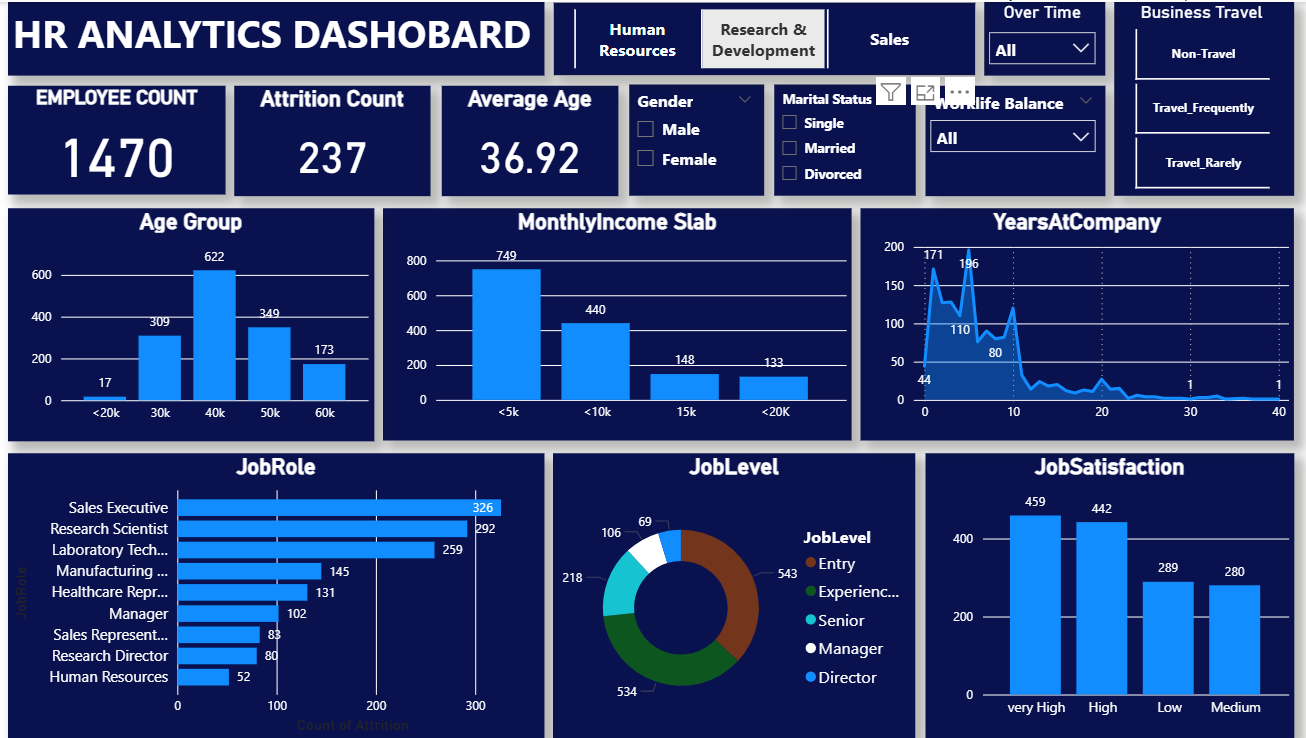

The page's visual inventory and layout, read from the dashboard file:
{"tool":"powerbi","page":{"name":"Page 1","canvas":[1280,720],"ordinal":0},"visuals":[{"type":"textbox","box":[9.8,0,524.6,72.1],"z":0},{"type":"card","title":"EMPLOYEE COUNT","fields":{"Values":["CountNonNull(cleaned_data.EmployeeNumber)"]},"box":[9.8,81.9,212.8,106.4],"z":1000},{"type":"slicer","fields":{"Values":["cleaned_data.Department"]},"box":[542.9,0,413.3,72.1],"z":2000},{"type":"card","title":"Attrition Count","fields":{"Values":["cleaned_data.attrition_countyes"]},"box":[231.1,81.9,192,107.6],"z":3000},{"type":"columnChart","title":"MonthlyIncome Slab","fields":{"Category":["cleaned_data.monthlyincomesalb"],"Y":["CountNonNull(cleaned_data.Attrition)"]},"box":[376.6,201.8,458.6,227.4],"z":4000},{"type":"columnChart","title":"Age Group","fields":{"Y":["CountNonNull(cleaned_data.Attrition)"],"Category":["cleaned_data.agegrp"]},"box":[9.6,201.7,358.1,227.8],"z":5000},{"type":"clusteredBarChart","title":"JobRole","fields":{"Category":["cleaned_data.JobRole"],"Y":["CountNonNull(cleaned_data.Attrition)"]},"box":[9.8,441.4,524.6,278.8],"z":6000},{"type":"slicer","fields":{"Values":["cleaned_data.Gender"]},"box":[617.5,80.7,132.1,108.8],"z":7000},{"type":"donutChart","title":"JobLevel","fields":{"Y":["CountNonNull(cleaned_data.Attrition)"],"Category":["cleaned_data.JobLevel"]},"box":[542.9,441.4,354.6,278.8],"z":8000},{"type":"columnChart","title":"JobSatisfaction","fields":{"Y":["CountNonNull(cleaned_data.Attrition)"],"Category":["cleaned_data.jbs_grp"]},"box":[907.3,441.4,360.7,278.8],"z":9000},{"type":"slicer","fields":{"Values":["cleaned_data.MaritalStatus"]},"box":[759.4,80.7,138.2,108.8],"z":10000},{"type":"slicer","title":"Business Travel","fields":{"Values":["cleaned_data.BusinessTravel"]},"box":[1092,0,176.1,189.5],"z":11000},{"type":"areaChart","title":"YearsAtCompany","fields":{"Category":["cleaned_data.YearsAtCompany"],"Y":["CountNonNull(cleaned_data.Attrition)"]},"box":[843.8,201.8,424.3,227.4],"z":12000},{"type":"slicer","title":"Over Time","fields":{"Values":["cleaned_data.OverTime"]},"box":[964.8,0,118.6,72.1],"z":13000},{"type":"slicer","fields":{"Values":["cleaned_data.WorkLifeBalance","cleaned_data.Attrition"]},"box":[907.3,81.9,176.1,107.6],"z":15000},{"type":"card","title":"Average Age","fields":{"Values":["Avg(cleaned_data.Age)"]},"box":[434.1,81.9,172.4,107.6],"z":16000}]}

Visuals, with their boxes in screenshot pixels (x1, y1, x2, y2), scaled from the page's 1280x720 canvas onto the 1306x738 screenshot:
textbox: x1=10, y1=0, x2=545, y2=74
"EMPLOYEE COUNT" card: x1=10, y1=84, x2=227, y2=193
slicer - cleaned_data.Department: x1=554, y1=0, x2=976, y2=74
"Attrition Count" card: x1=236, y1=84, x2=432, y2=194
"MonthlyIncome Slab" columnChart: x1=384, y1=207, x2=852, y2=440
"Age Group" columnChart: x1=10, y1=207, x2=375, y2=440
"JobRole" clusteredBarChart: x1=10, y1=452, x2=545, y2=737
slicer - cleaned_data.Gender: x1=630, y1=83, x2=765, y2=194
"JobLevel" donutChart: x1=554, y1=452, x2=916, y2=737
"JobSatisfaction" columnChart: x1=926, y1=452, x2=1294, y2=737
slicer - cleaned_data.MaritalStatus: x1=775, y1=83, x2=916, y2=194
"Business Travel" slicer: x1=1114, y1=0, x2=1294, y2=194
"YearsAtCompany" areaChart: x1=861, y1=207, x2=1294, y2=440
"Over Time" slicer: x1=984, y1=0, x2=1105, y2=74
slicer - cleaned_data.WorkLifeBalance x cleaned_data.Attrition: x1=926, y1=84, x2=1105, y2=194
"Average Age" card: x1=443, y1=84, x2=619, y2=194
